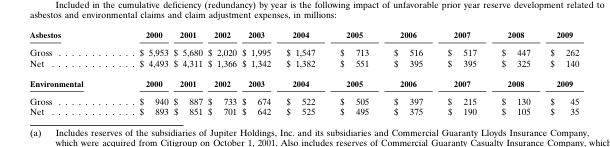table: (29, 29, 578, 116)
table column: (29, 29, 110, 116), (110, 29, 170, 116), (326, 29, 380, 116), (380, 29, 434, 116), (434, 29, 488, 116), (488, 29, 539, 116), (277, 29, 326, 116), (238, 29, 277, 116), (539, 29, 578, 116), (170, 29, 204, 116), (204, 29, 238, 116)
table column header: (29, 29, 578, 42)
table row: (29, 72, 578, 91), (29, 42, 578, 57), (29, 57, 578, 72), (29, 91, 578, 105), (29, 29, 578, 42), (29, 105, 578, 116)
